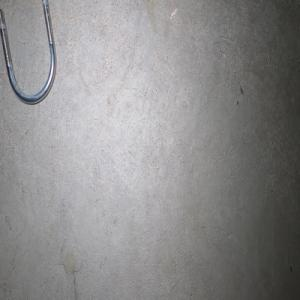ClampPart: (0, 0, 57, 105)
